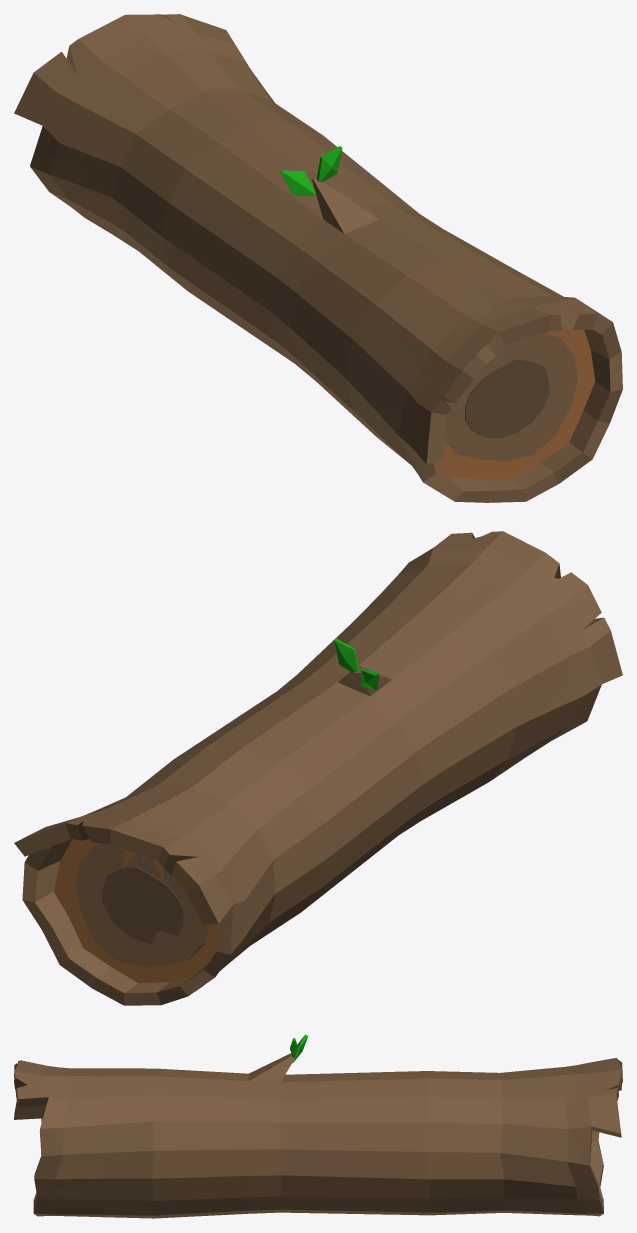
Rendered from Tronco.fbx.
3 renders of one model, top to bottom at view 1: azimuth 30°, elevation 25°; view 2: azimuth 150°, elevation 25°; view 3: azimuth 270°, elevation 25°, orthographic. The views are drawn at different scales.
Visible parts, largest first — view 1: TroncoTirado; view 2: TroncoTirado; view 3: TroncoTirado.
Boxes of the visible parts, x1,y1,x2,y2 form: TroncoTirado: (14,14,622,502); TroncoTirado: (14,531,622,1005); TroncoTirado: (14,1034,622,1218).
Bounding box in the file's own units: 181 × 176 × 579.
